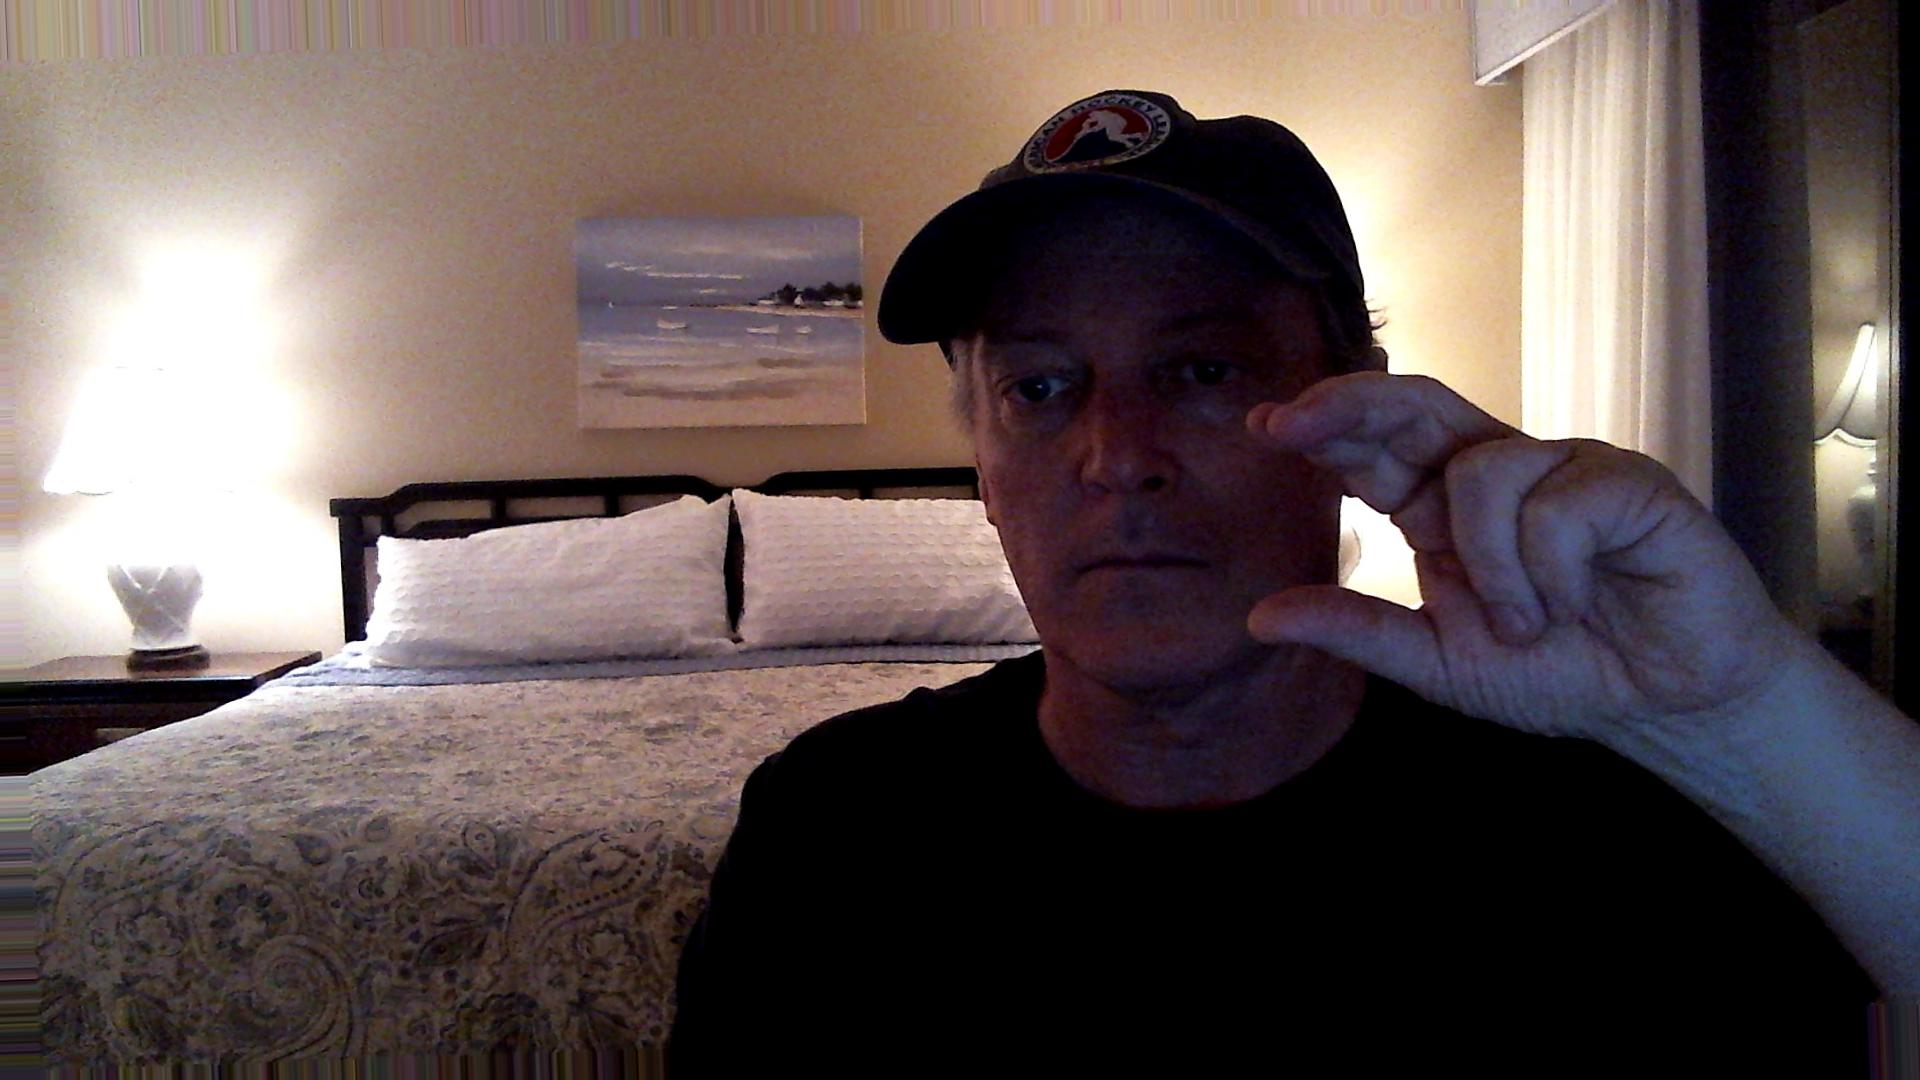No: (1222, 363, 1815, 778)
